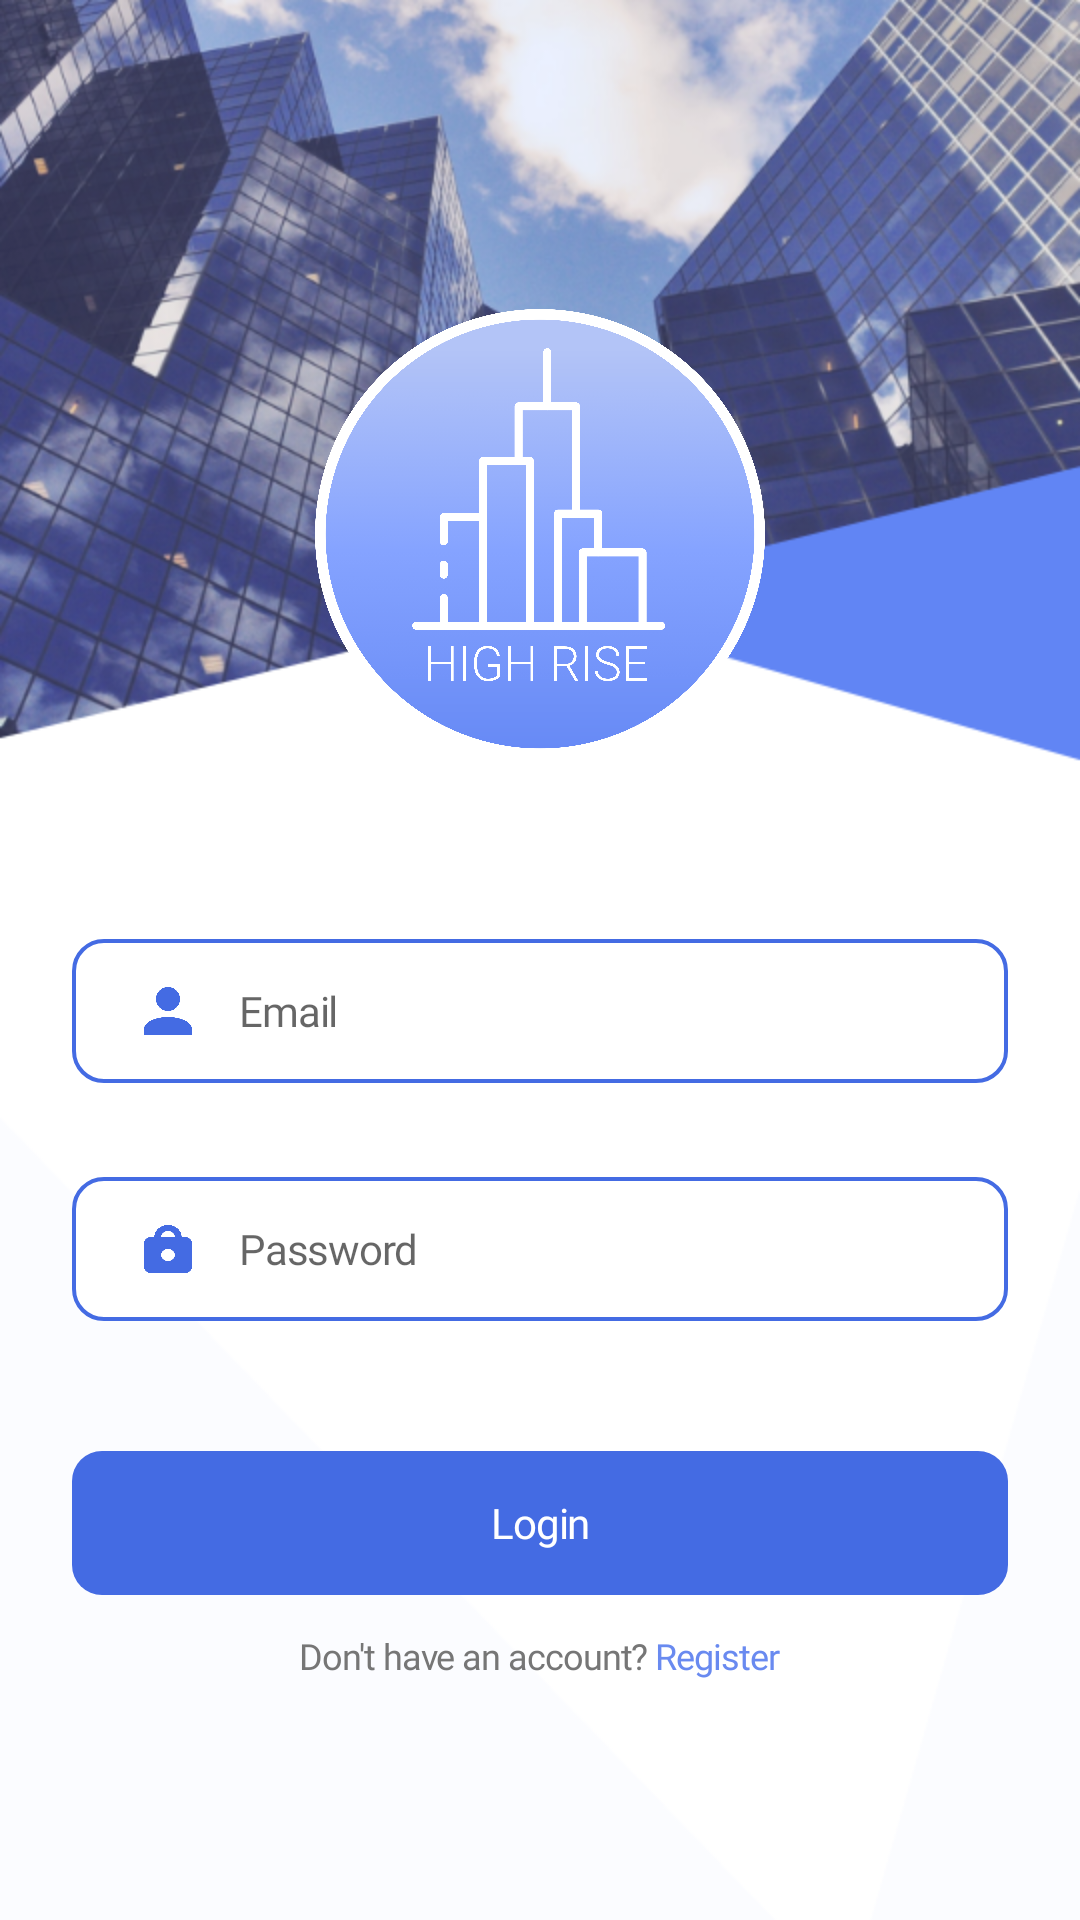

Where icons sit on this 1080*1920 app screen, as (x1, y1, x2, y2):
person: (144, 987, 192, 1035)
